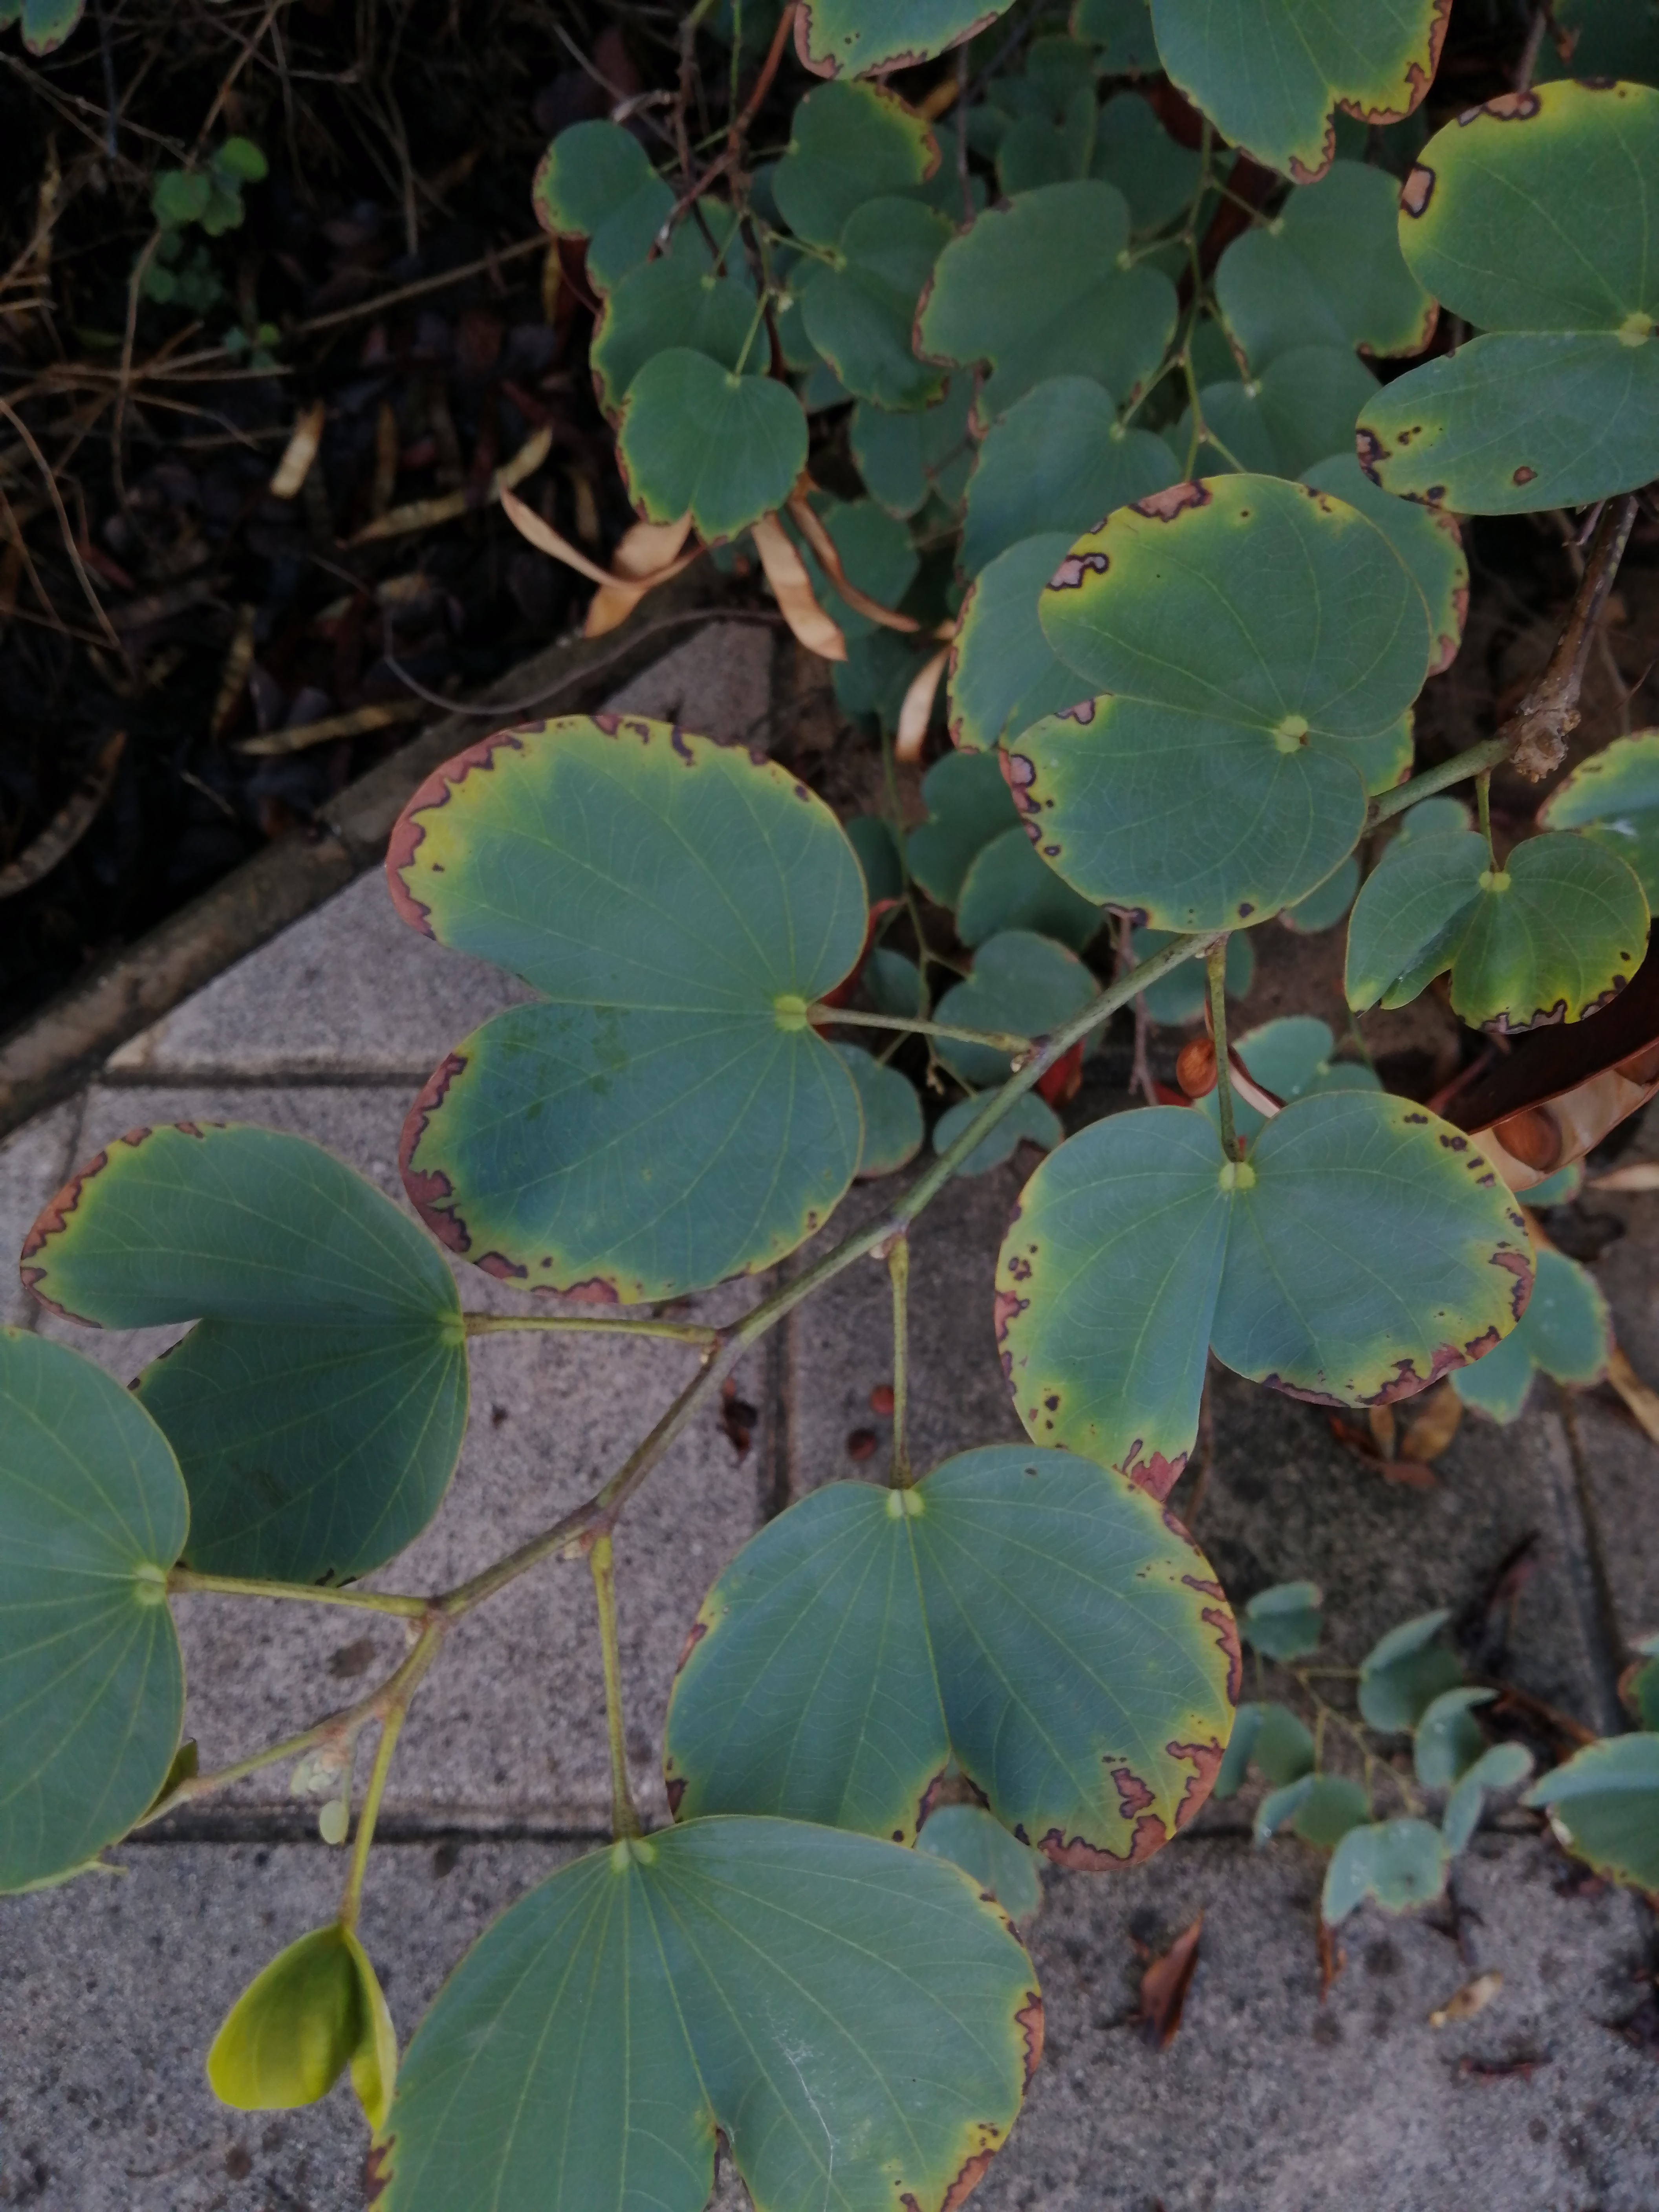nothealthy: (394, 700, 911, 1294), (615, 1393, 1248, 1874), (317, 1818, 1065, 2212), (0, 1089, 533, 1590), (997, 1052, 1525, 1489), (1000, 469, 1457, 937), (1342, 75, 1659, 521), (917, 183, 1223, 481), (1371, 782, 1659, 1055), (1072, 3, 1464, 183), (599, 334, 798, 577), (758, 0, 1033, 68)
